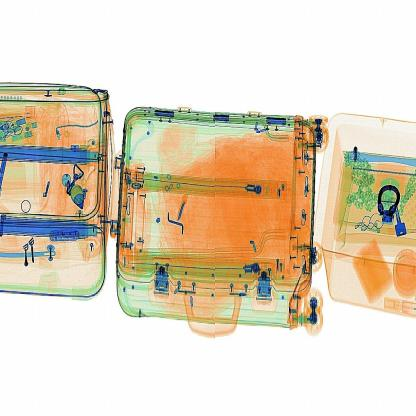pliers: (176, 180, 202, 234)
